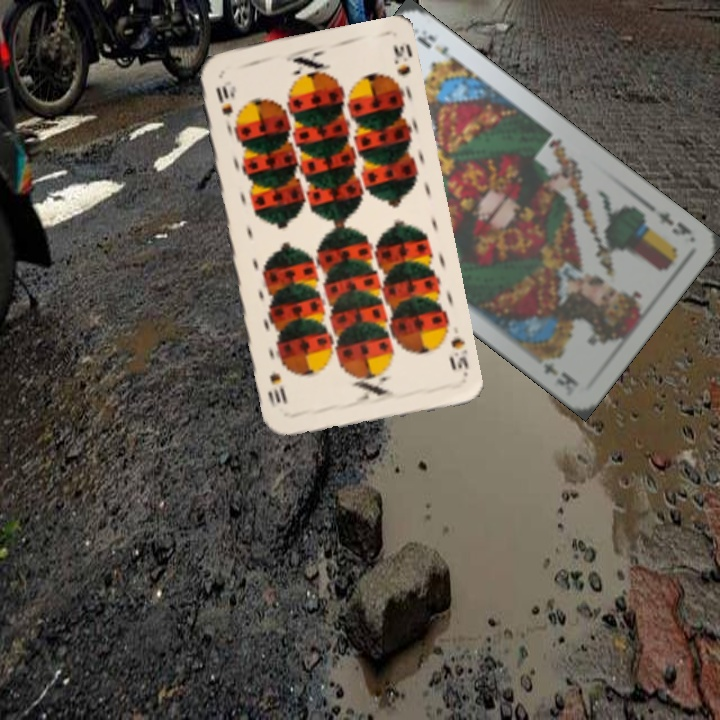EK: (643, 199, 694, 239)
S10: (445, 333, 471, 373), (212, 82, 235, 120)
